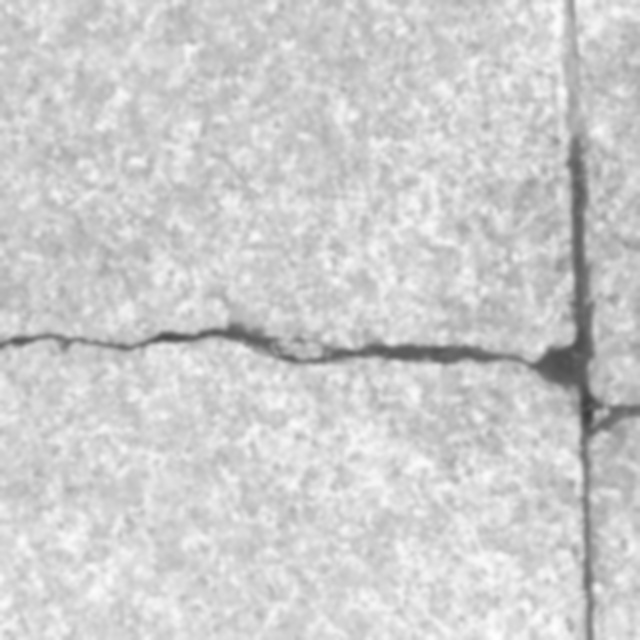SurfaceCrack: (462, 1, 640, 640), (5, 281, 640, 435)
